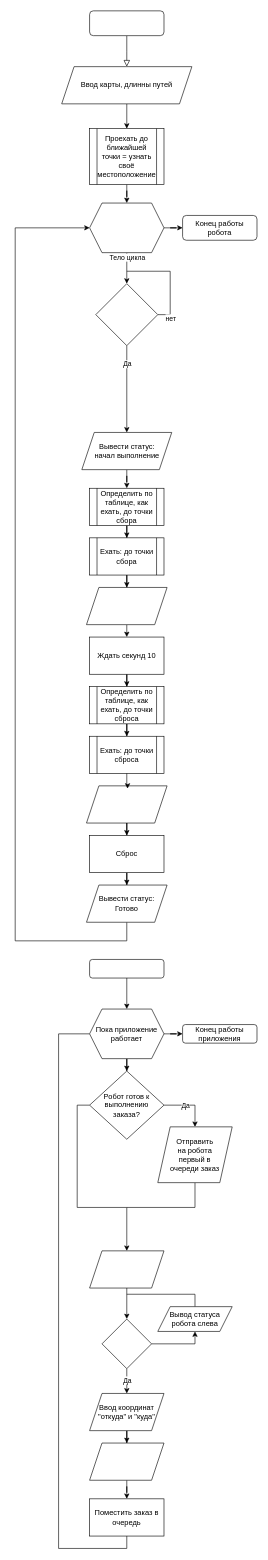
The diagram is 268 pixels wide and 1560 high, and some of its shapes have lost their labels. The shapes that lost their labels are listed below. From the top down, each one's centre as x and y in pixels, then its label:
the point at 126,23: Начало работы робота
the point at 126,227: Пока: работает программа
the point at 126,314: Есть заказ?
the point at 126,606: Вывести статус: доехали до сбора
the point at 126,804: Вывести статус: доехали до сброса
the point at 126,968: Начало работы приложения
the point at 126,1269: Вывод кнопки "Сделать заказ" в центре
the point at 126,1343: Делаем заказ?
the point at 126,1461: Вывод: запрос готов
